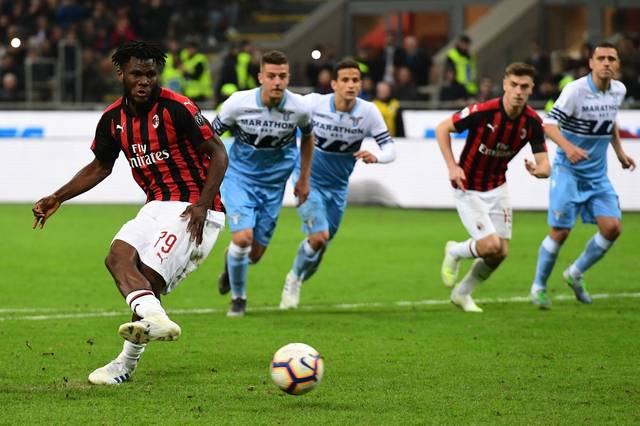ball: (268, 341, 325, 396)
